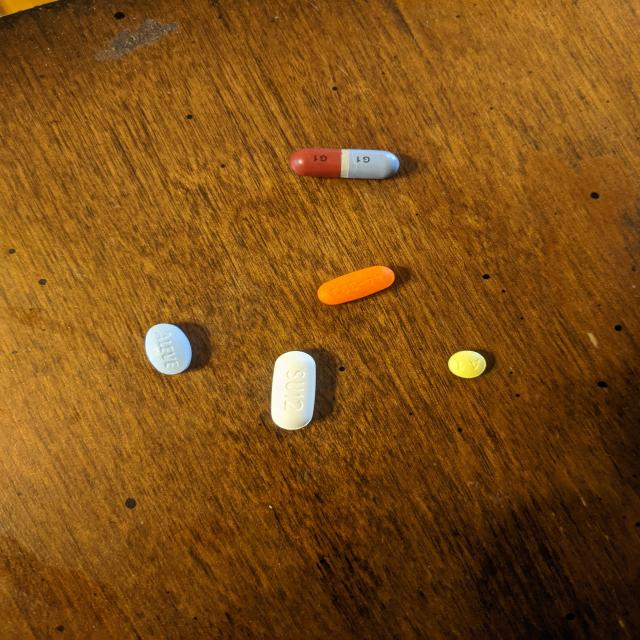non-organic waste: (288, 146, 400, 181), (270, 351, 318, 432), (317, 264, 396, 306), (144, 322, 193, 376), (447, 349, 487, 379)
